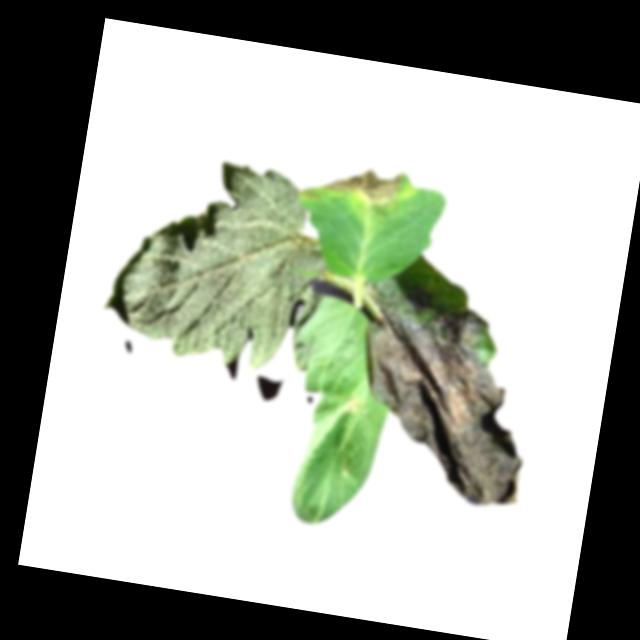Late_blight: (338, 276, 547, 514), (315, 159, 405, 210), (337, 395, 362, 421)
healthy: (96, 146, 335, 376)
